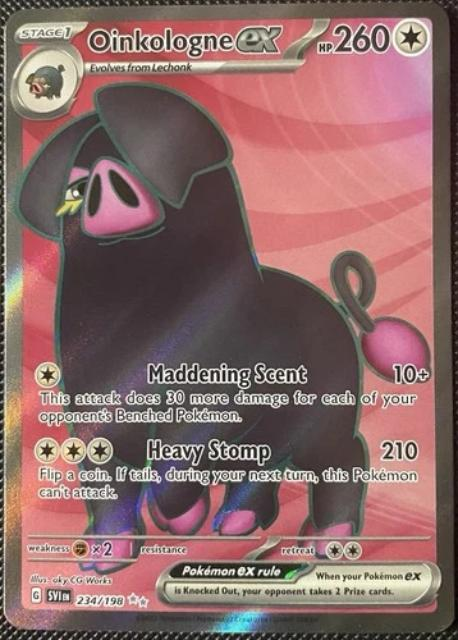Card: (3, 0, 457, 635)
Name: (78, 18, 283, 59)
